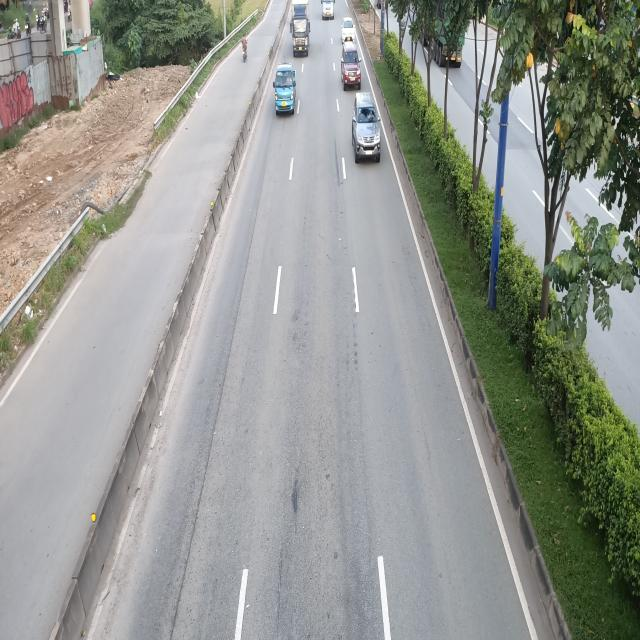car: (350, 93, 382, 163), (342, 43, 362, 90)
truck: (274, 61, 299, 114), (290, 0, 312, 56)
